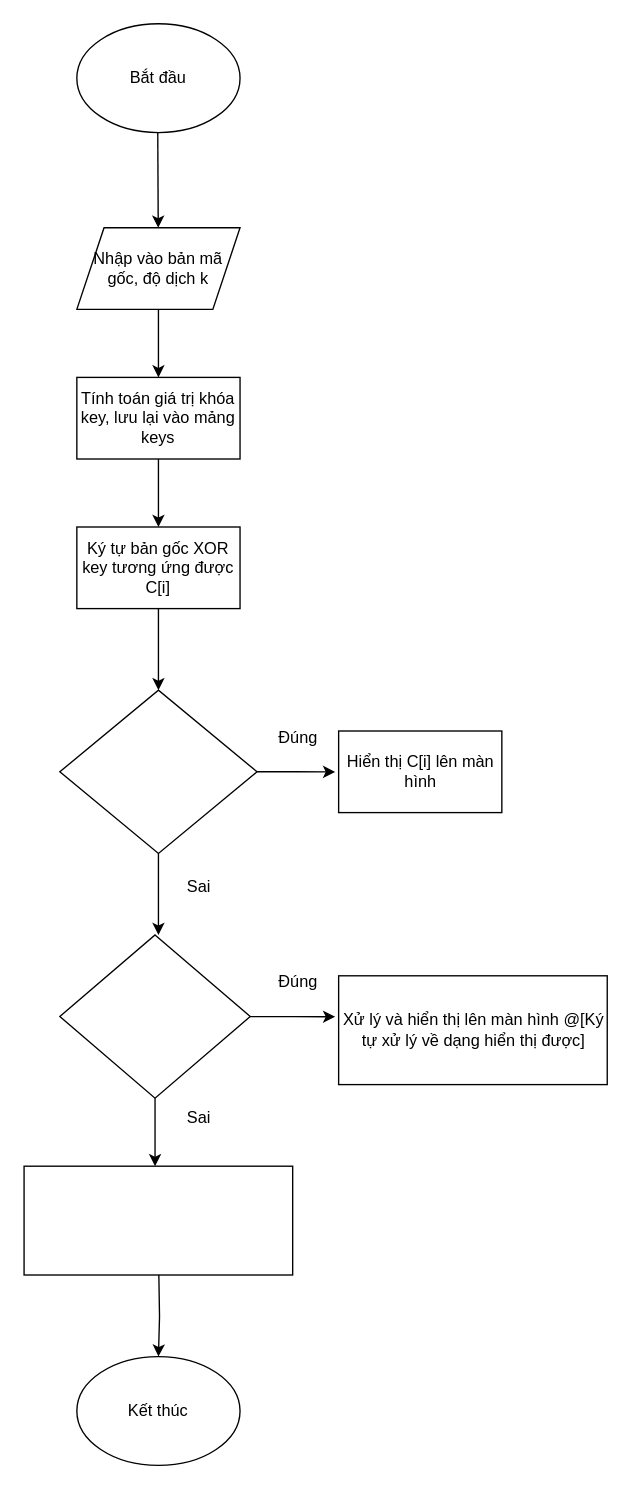
This 631x1489 diagram has some shape labels left out. The shapes that lost their labels are listed below. From the top down, each one's centre as x and y in pixels, then its label:
the point at 157,771: Mã ASCII C[i] nằm trong khoảng 32-126
the point at 154,1016: Mã ASCII < 32
the point at 158,1220: Xử lý và hiển thị lên màn hình #[Ký tự đệm][Ký tự xử lý về dạng hiển thị được]
